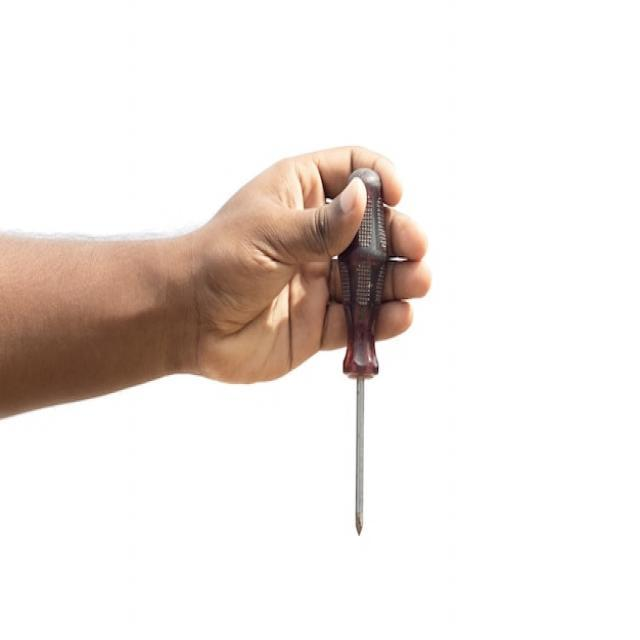screwdriver: (332, 157, 390, 540)
